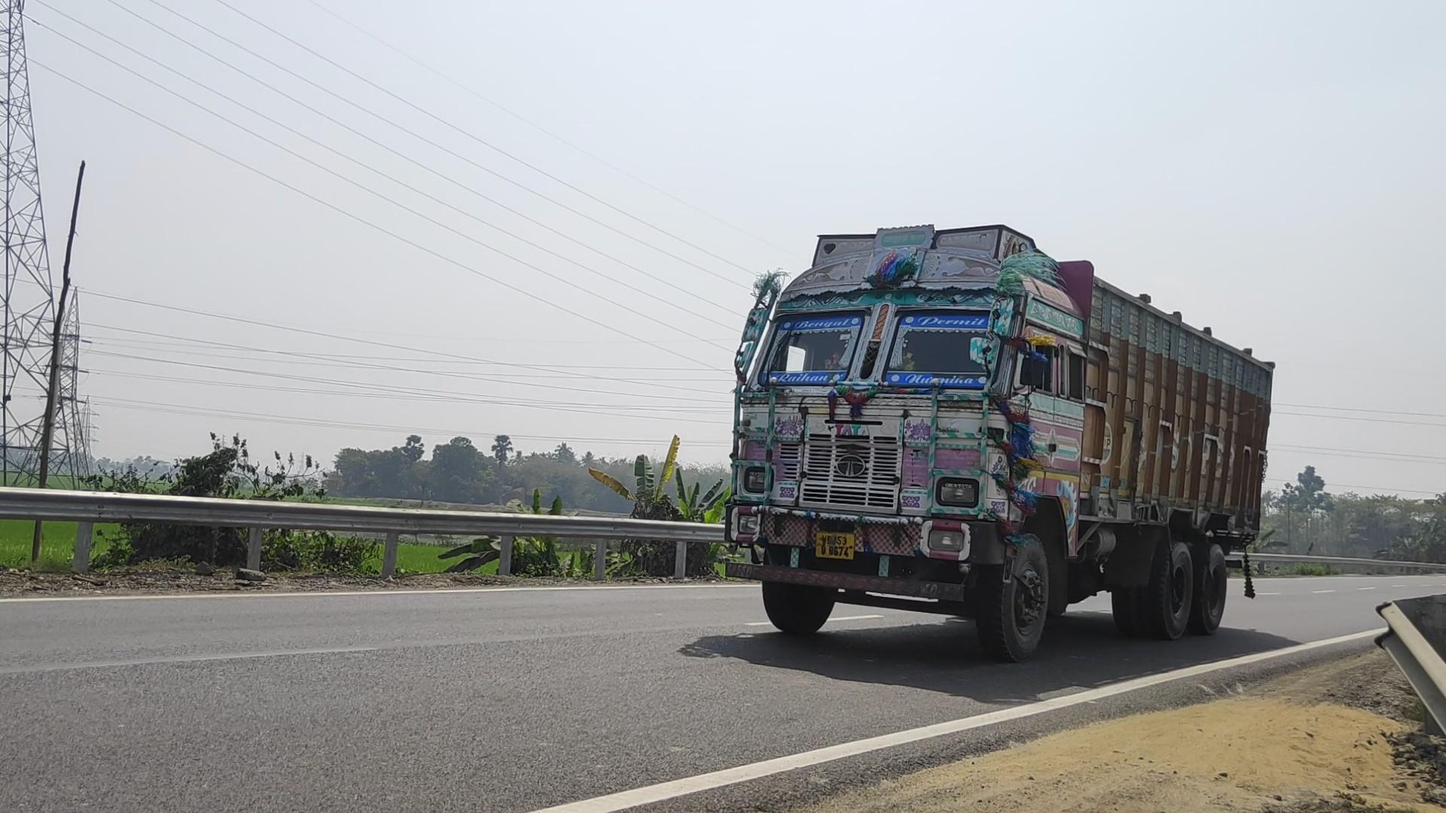truck: (724, 224, 1276, 665)
